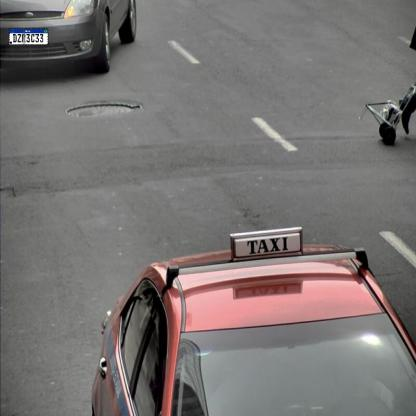PlacaM: (9, 28, 48, 45)
